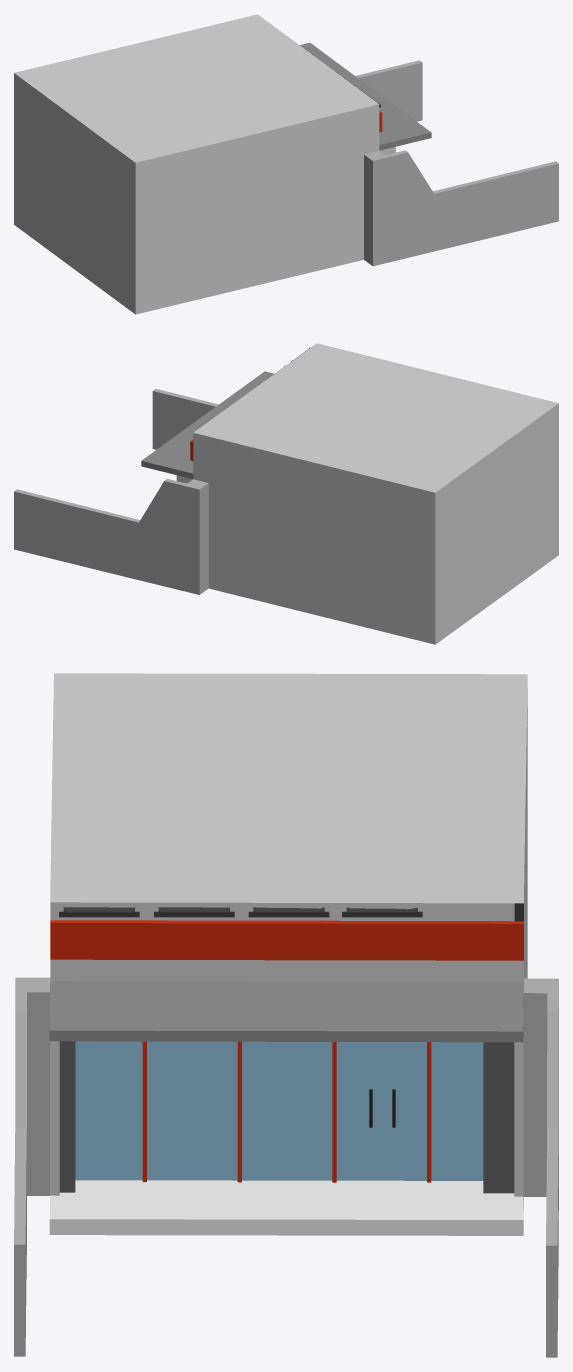
The model's file is indokecil.fbx.
3 views of the same model, one above another, from view 1: azimuth 30°, elevation 25°; view 2: azimuth 150°, elevation 25°; view 3: azimuth 270°, elevation 25° (orthographic). The views are drawn at different scales.
Parts seen in each view (by area): view 1: indo 1.002; view 2: indo 1.002; view 3: indo 1.002.
Part boxes in pixels (x1,y1,x2,y2): indo 1.002: (14,14,558,314); indo 1.002: (14,343,558,644); indo 1.002: (14,673,558,1357).
Size of the model in its own units: 3237 by 1134 by 1908.
